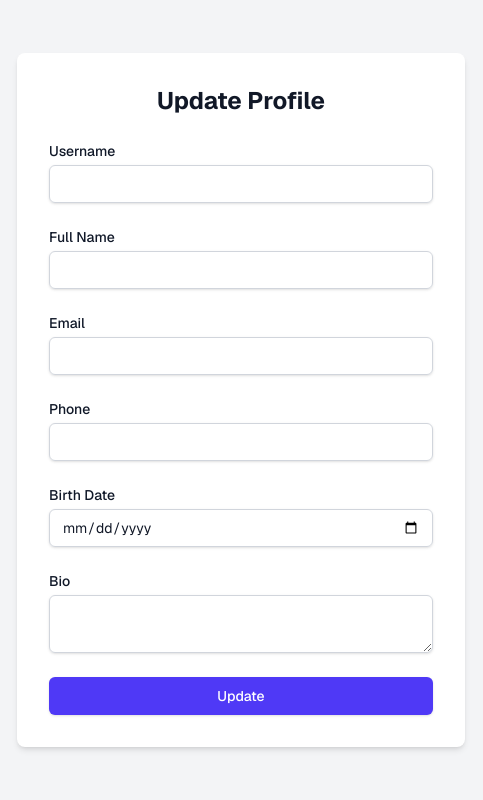
Scenario: ProfilePage › shows validation errors for empty/invalid fields
Click the button "Update" at (241, 696), box [49,677,433,715]
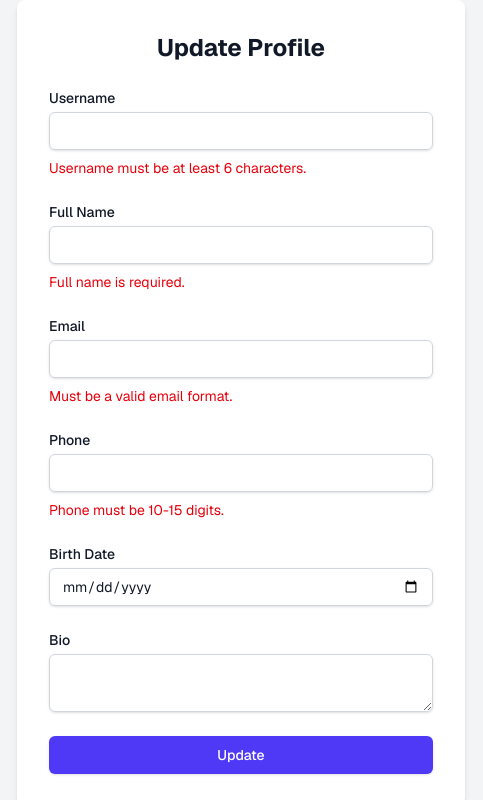
Result: the text "Username must be at least 6 characters." is shown at [49,159,306,177]
Result: the text "Full name is required." is shown at [49,273,185,291]
Result: the text "Must be a valid email format." is shown at [49,387,232,405]
